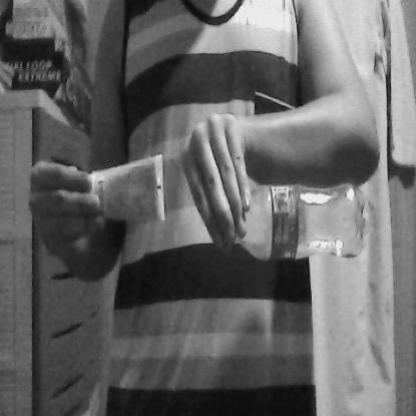Plastic Bottle: (203, 169, 375, 273)
